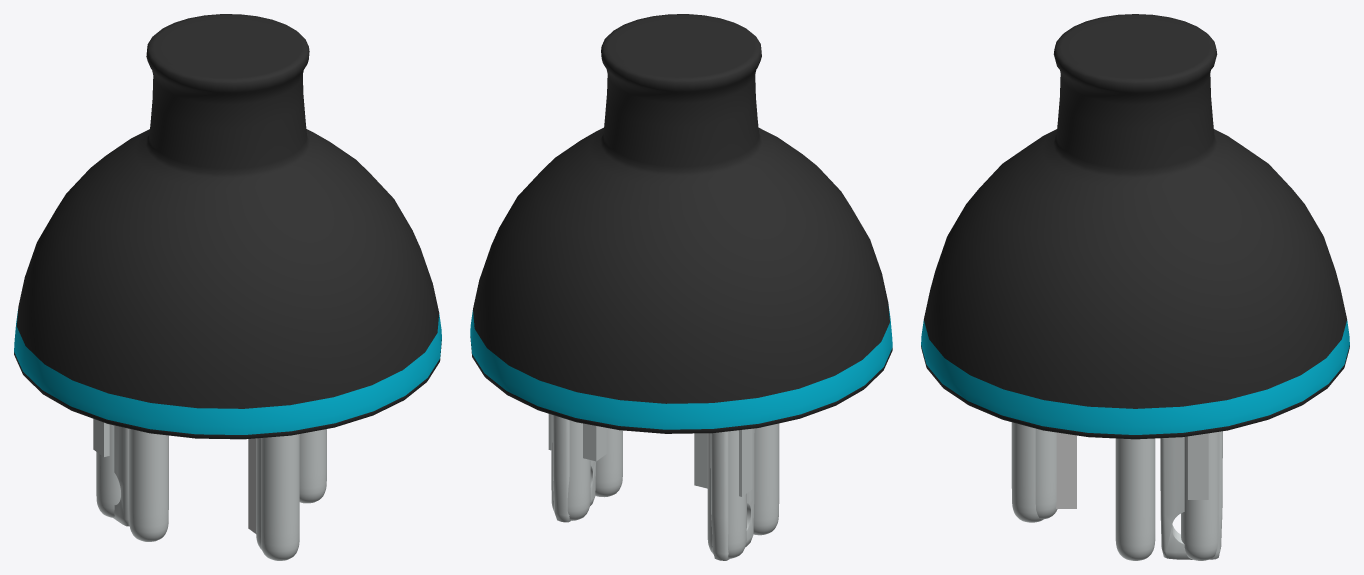
File: plug.fbx
3 renders of one model, left to right at view 1: azimuth 30°, elevation 25°; view 2: azimuth 150°, elevation 25°; view 3: azimuth 270°, elevation 25°, orthographic.
Parts seen in each view (by area): view 1: Rubber, ProngRound.001, ProngRound, ProngRound.003, Cube.000, ProngSquare, ProngSquare.001, ProngRound.004; view 2: Rubber, Cube.000, ProngRound.003, ProngRound.001, ProngSquare.001; view 3: Rubber, ProngRound.001, Cube.000, ProngRound.003, ProngRound, ProngRound.004, ProngSquare, ProngSquare.001.
Part boxes in pixels (bbox=[...]): Rubber: bbox=[14, 14, 441, 439]; ProngRound.001: bbox=[129, 428, 326, 541]; ProngRound: bbox=[261, 434, 299, 560]; ProngRound.003: bbox=[96, 424, 120, 517]; Cube.000: bbox=[113, 425, 129, 526]; ProngSquare: bbox=[248, 438, 256, 533]; ProngSquare.001: bbox=[93, 419, 109, 456]; ProngRound.004: bbox=[256, 438, 261, 549]; Rubber: bbox=[470, 14, 892, 433]; Cube.000: bbox=[552, 415, 754, 560]; ProngRound.003: bbox=[551, 414, 746, 558]; ProngRound.001: bbox=[595, 423, 779, 535]; ProngSquare.001: bbox=[548, 414, 752, 496]; Rubber: bbox=[921, 14, 1349, 439]; ProngRound.001: bbox=[1115, 438, 1155, 560]; Cube.000: bbox=[1160, 431, 1222, 559]; ProngRound.003: bbox=[1181, 432, 1217, 560]; ProngRound: bbox=[1011, 422, 1043, 522]; ProngRound.004: bbox=[1035, 428, 1057, 519]; ProngSquare: bbox=[1056, 432, 1076, 508]; ProngSquare.001: bbox=[1188, 433, 1208, 499].
Size of the model in its own units: 193 by 235 by 193.
